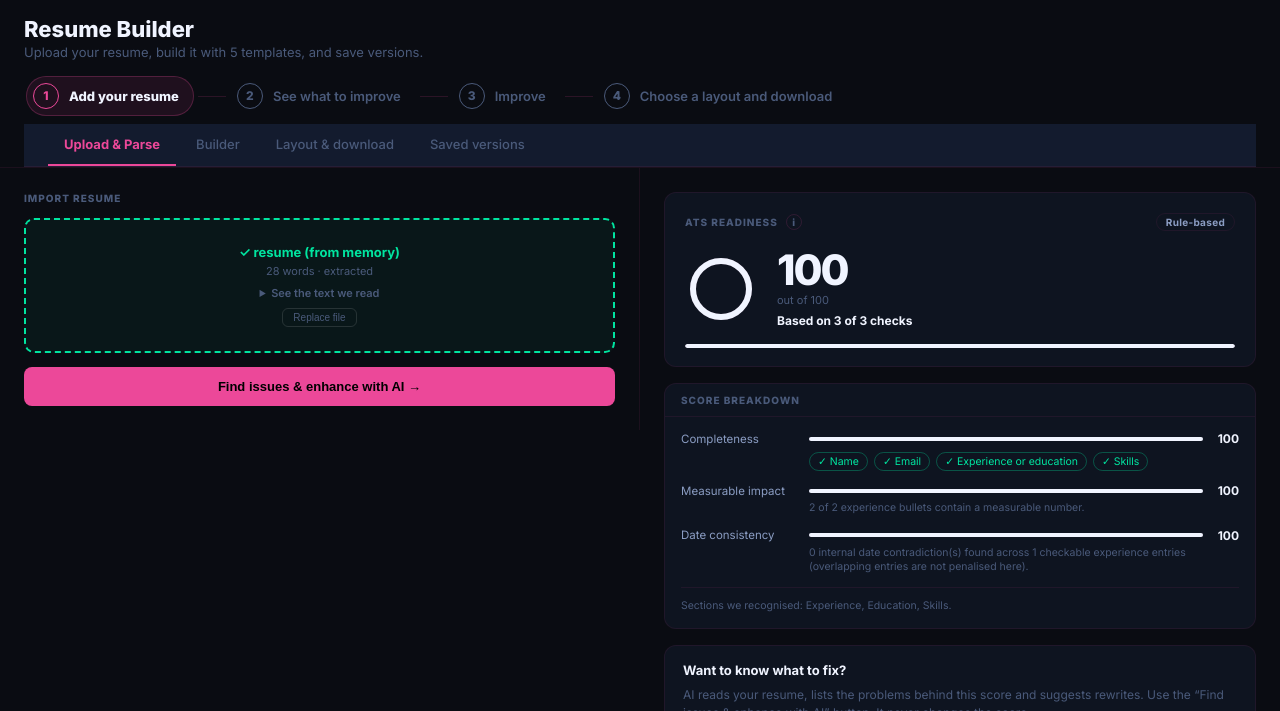
Test case: the Layout & download tab › says so when there is no resume yet and the previews are a sample
This screenshot has width=1280, height=711.
Click the button "Layout & download". click: coordinates (335, 145)
box: [260, 124, 410, 166]
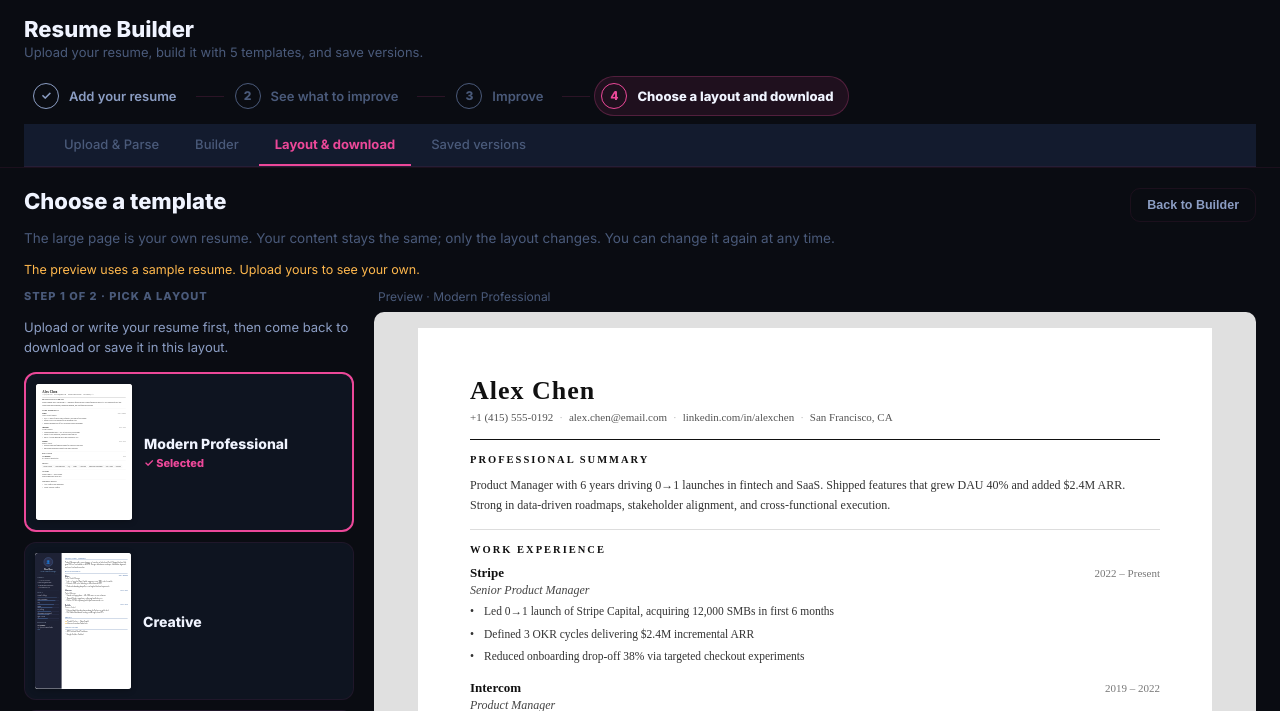
Expected: the text "sample resume" is shown, [24, 262, 420, 277]
